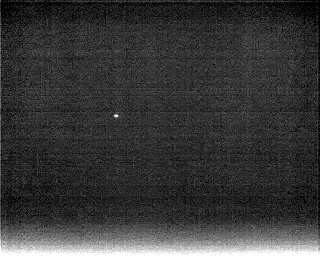AIRPLANE: (112, 111, 120, 120)
